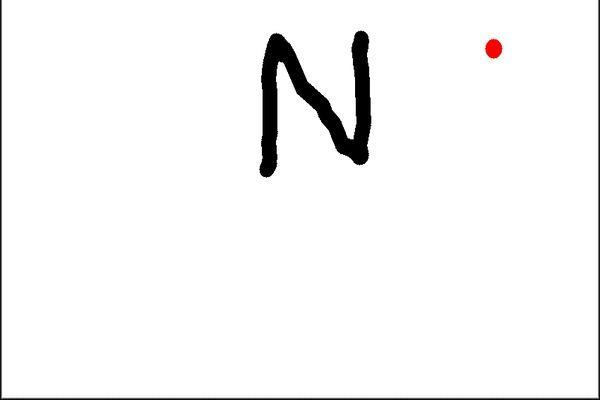N: (250, 23, 380, 177)
